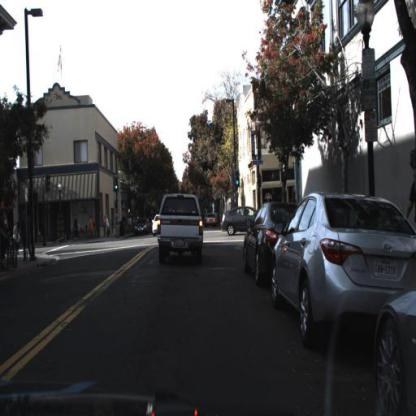car: (268, 186, 416, 343), (272, 193, 411, 353), (375, 285, 416, 415), (243, 198, 303, 284), (155, 193, 209, 268), (244, 201, 280, 281), (221, 205, 261, 237), (134, 214, 152, 240), (151, 215, 165, 240), (153, 214, 159, 236)
pedestrian: (20, 209, 32, 260), (1, 217, 8, 269), (72, 212, 81, 243), (13, 220, 21, 254), (86, 215, 96, 240), (102, 212, 110, 238), (73, 213, 80, 240), (116, 213, 121, 241)
trafficLight-Green: (234, 169, 243, 190), (113, 176, 120, 193)
